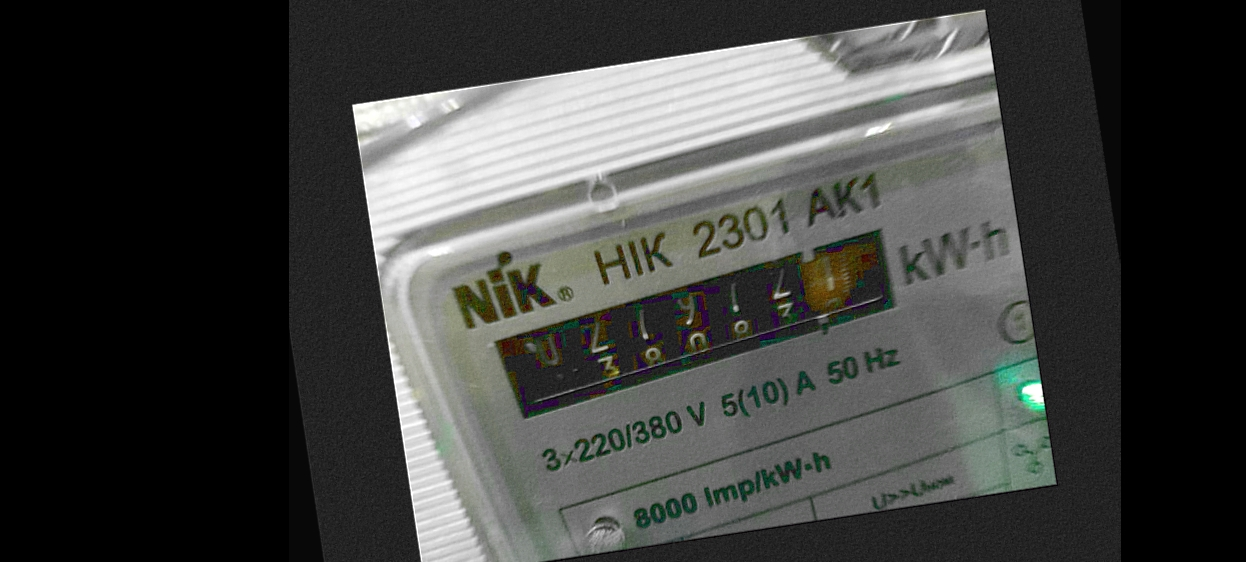0: (532, 329, 565, 369)
1: (817, 250, 845, 295)
2: (579, 313, 614, 355), (764, 261, 797, 301)
7: (718, 273, 750, 317), (628, 303, 657, 343)
9: (674, 289, 705, 327)
screen: (470, 213, 940, 433)
